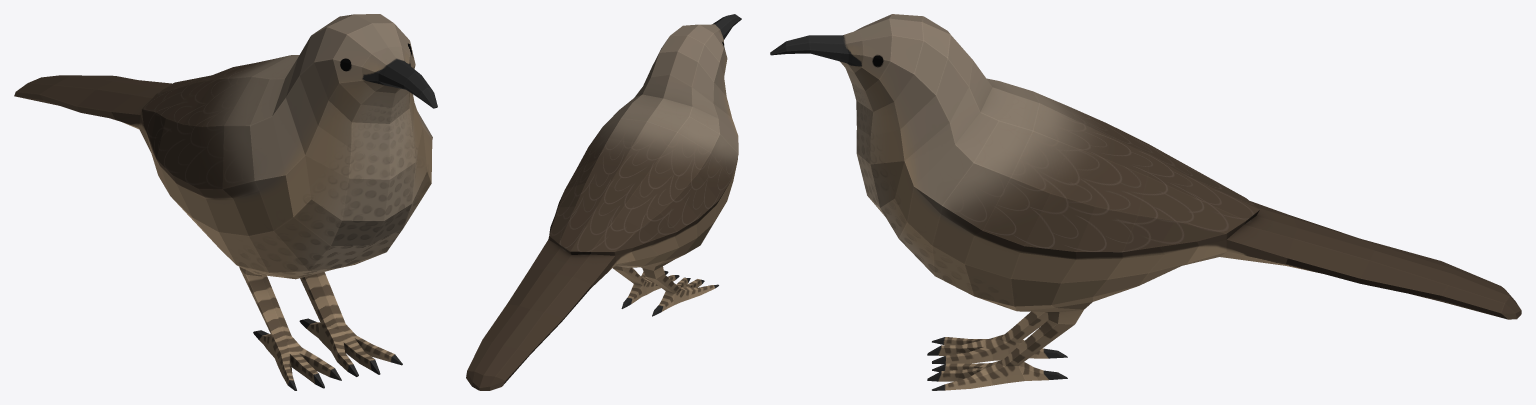
3 renders of one model, left to right at view 1: azimuth 30°, elevation 25°; view 2: azimuth 150°, elevation 25°; view 3: azimuth 270°, elevation 25°, orthographic. The views are drawn at different scales.
Visible parts, largest first — view 1: CurveBilledThrasher_Mesh; view 2: CurveBilledThrasher_Mesh; view 3: CurveBilledThrasher_Mesh.
Boxes of the visible parts, x1=… form: CurveBilledThrasher_Mesh: x1=14, y1=14, x2=437, y2=390; CurveBilledThrasher_Mesh: x1=466, y1=14, x2=741, y2=390; CurveBilledThrasher_Mesh: x1=770, y1=14, x2=1521, y2=390.
Size of the model in its own units: 0.6974 by 1.22 by 2.38.
1 material, 1 textured.
